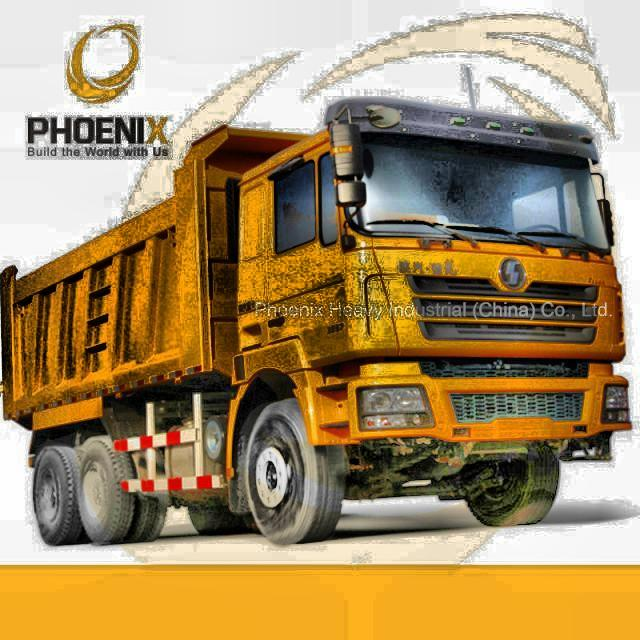dump_truck: (3, 98, 631, 547)
